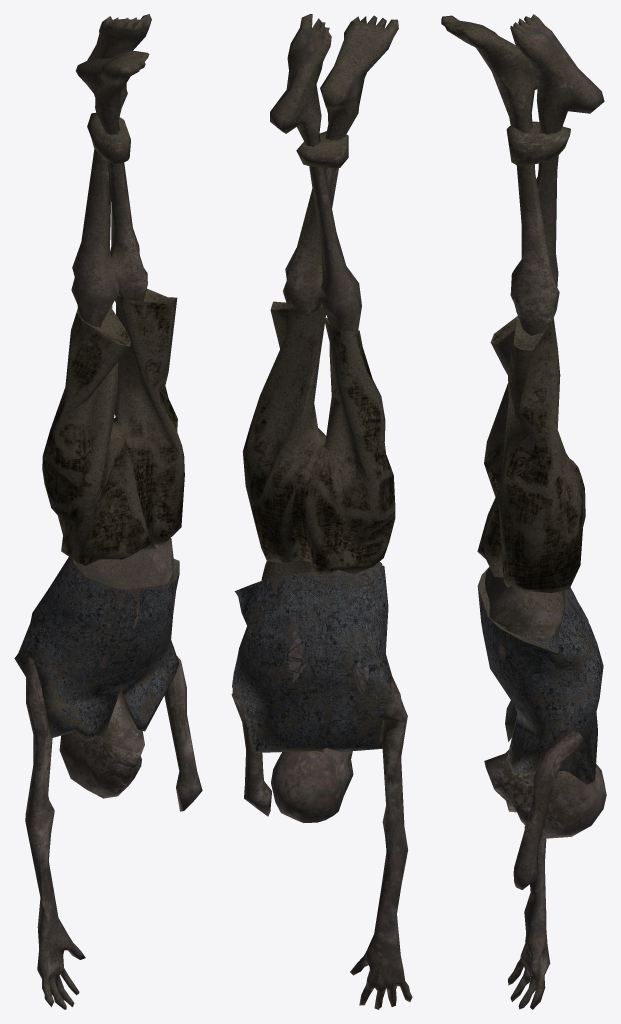
The model's file is P_Hang03_02.fbx.
3 renders of one model, left to right at view 1: azimuth 30°, elevation 25°; view 2: azimuth 150°, elevation 25°; view 3: azimuth 270°, elevation 25°, orthographic. The views are drawn at different scales.
Parts seen in each view (by area): view 1: P_Hang03_02; view 2: P_Hang03_02; view 3: P_Hang03_02.
Part boxes in pixels (x1,y1,x2,y2): P_Hang03_02: (14, 14, 202, 1009); P_Hang03_02: (231, 14, 412, 1009); P_Hang03_02: (441, 14, 606, 1009).
Bounding box in the file's own units: 56.95 × 318 × 46.72.
